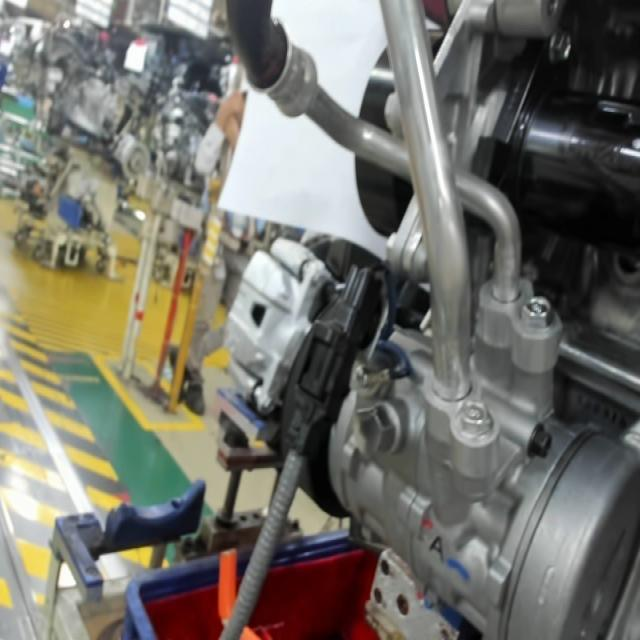Compressor-A: (424, 526, 449, 570)
